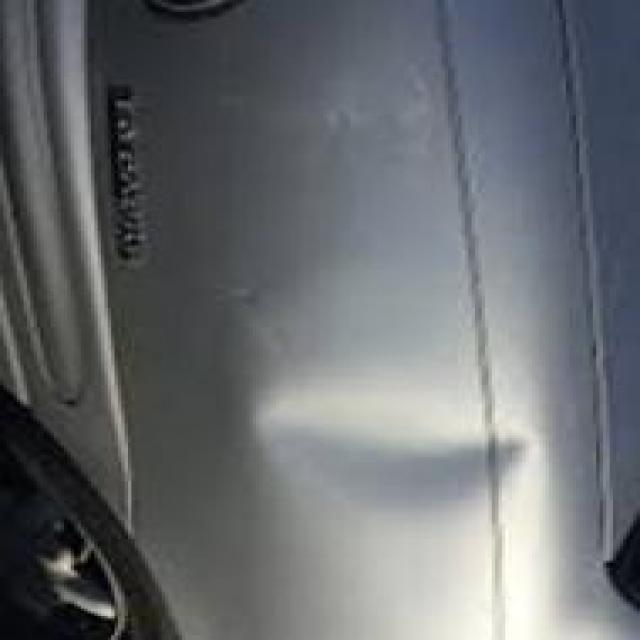dent: (222, 336, 559, 530)
